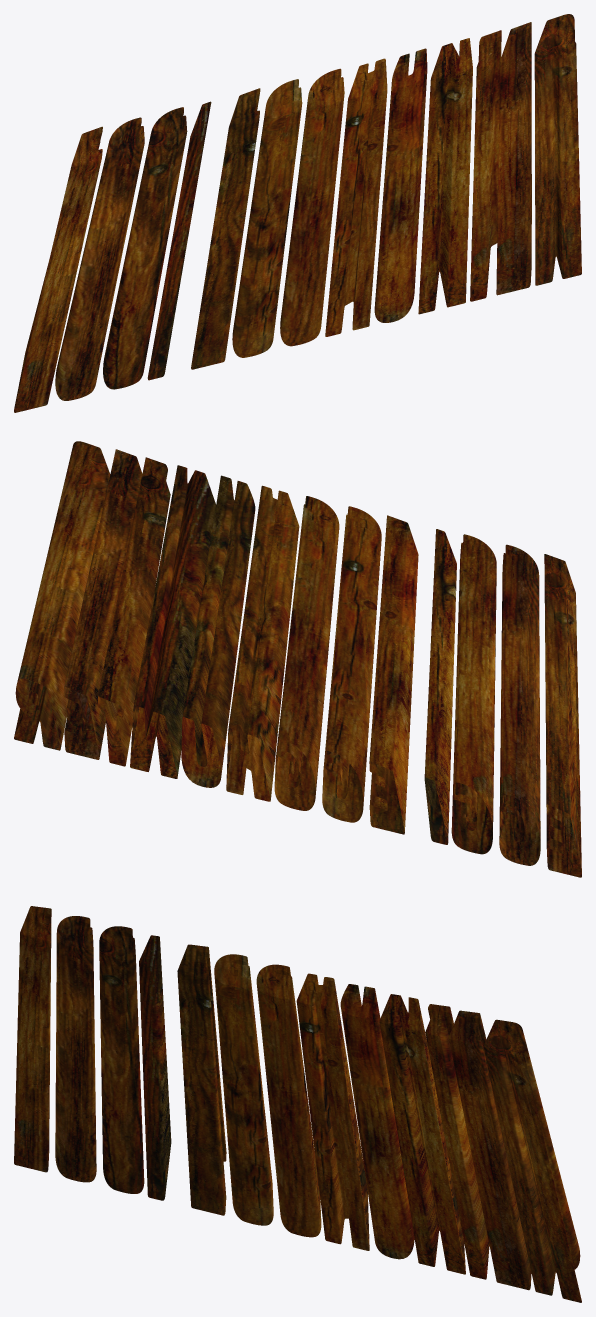
Rendered from title_hangdown.FBX.
3 renders of one model, top to bottom at view 1: azimuth 30°, elevation 25°; view 2: azimuth 150°, elevation 25°; view 3: azimuth 330°, elevation 25°, orthographic.
Parts seen in each view (by area): view 1: Text002; view 2: Text002; view 3: Text002.
Part boxes in pixels (left/top/right/bottom): Text002: left=14, top=14, right=581, bottom=412; Text002: left=14, top=441, right=581, bottom=877; Text002: left=14, top=906, right=581, bottom=1302.
Bounding box in the file's own units: 277 × 136 × 21.72.
